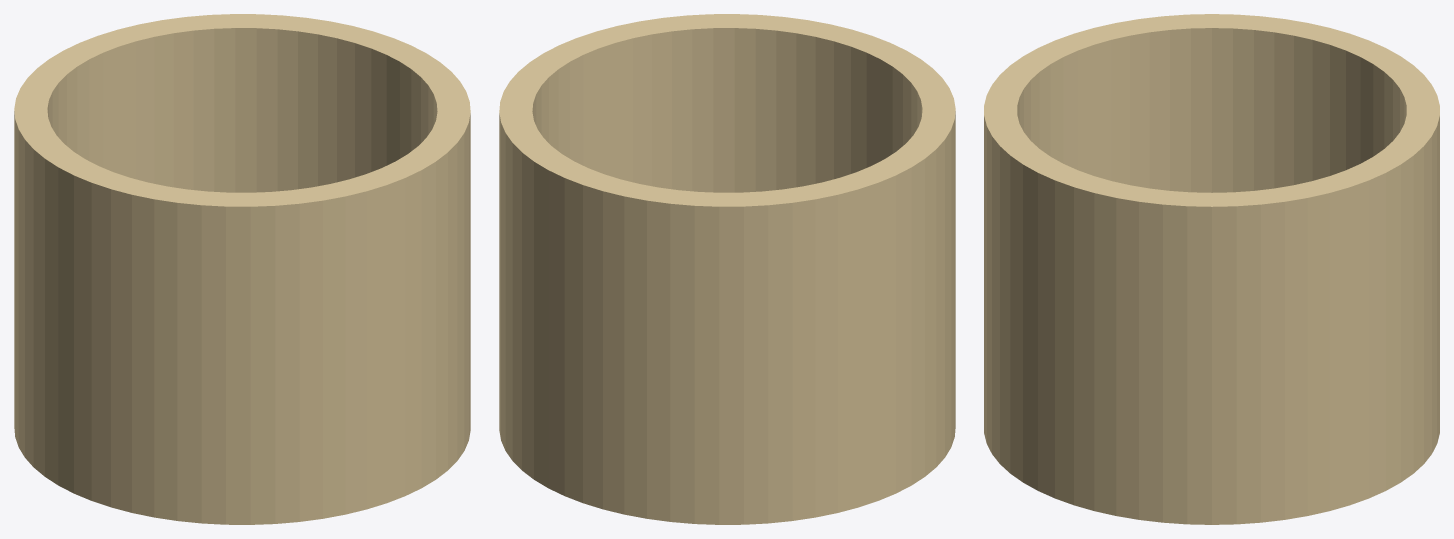
File: alternator-slip-ring-insulator.glb
3 renders of one model, left to right at view 1: azimuth 30°, elevation 25°; view 2: azimuth 150°, elevation 25°; view 3: azimuth 270°, elevation 25°, orthographic.
Visible parts, largest first — view 1: world; view 2: world; view 3: world.
Part boxes in pixels (left/top/right/bottom): world: left=14, top=14, right=470, bottom=524; world: left=499, top=14, right=955, bottom=524; world: left=984, top=14, right=1439, bottom=524.
Size of the model in its own units: 0.0234 by 0.018 by 0.0234.
